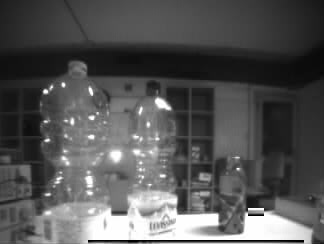Bottle: (38, 61, 112, 244), (126, 80, 178, 244), (217, 154, 246, 234)
